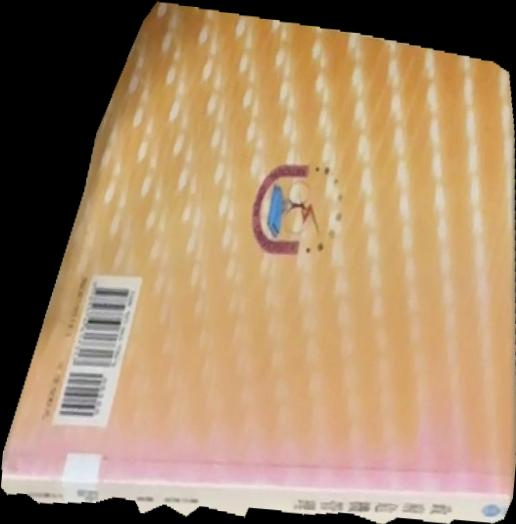flat: (1, 1, 516, 524)
